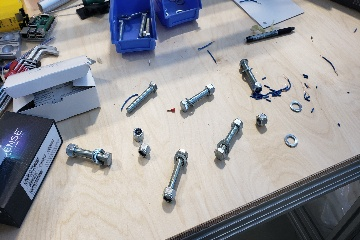Bolt: (121, 80, 158, 118)
FalseAssembly: (176, 81, 219, 115), (236, 56, 266, 103)
FinishedAssembly: (160, 146, 193, 208), (62, 141, 115, 173), (211, 115, 245, 162)
Nut: (252, 112, 272, 130), (128, 125, 145, 142), (138, 143, 153, 160)
Washer: (283, 133, 299, 149), (287, 99, 305, 113)
